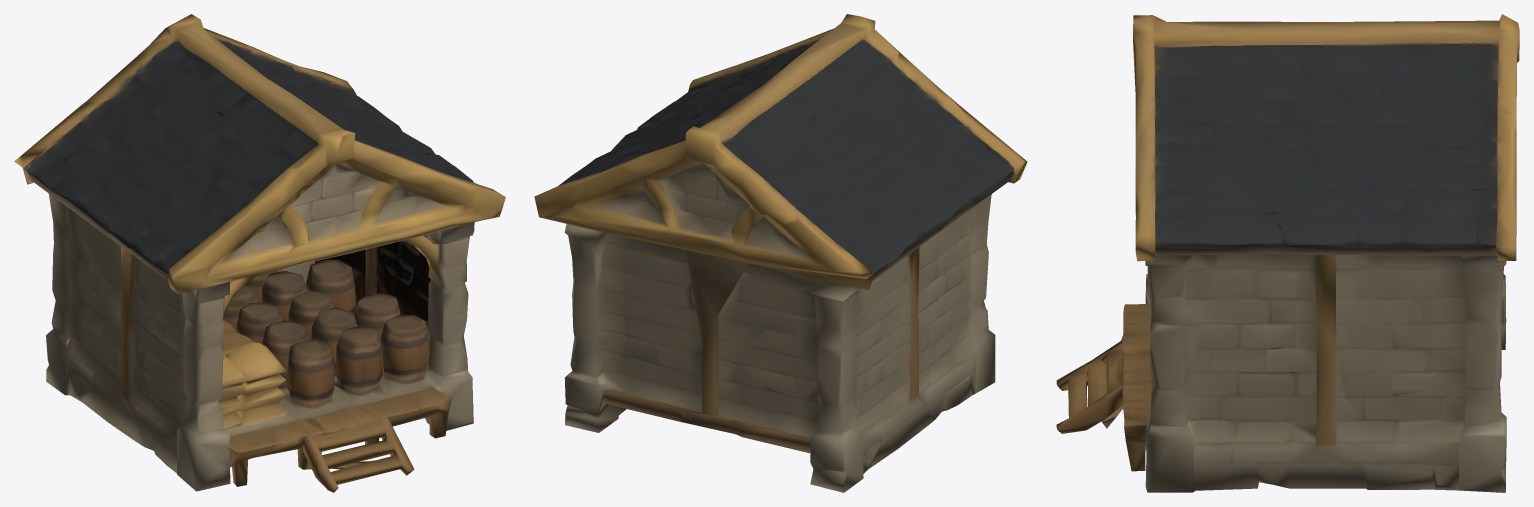
Rendered from source.glb.
3 renders of one model, left to right at view 1: azimuth 30°, elevation 25°; view 2: azimuth 150°, elevation 25°; view 3: azimuth 270°, elevation 25°, orthographic. The views are drawn at different scales.
Visible parts, largest first — view 1: tripo_node_efda932d-68d0-4e63-8a8c-3a186eead4b7; view 2: tripo_node_efda932d-68d0-4e63-8a8c-3a186eead4b7; view 3: tripo_node_efda932d-68d0-4e63-8a8c-3a186eead4b7.
Boxes of the visible parts, x1,y1,x2,y2 form: tripo_node_efda932d-68d0-4e63-8a8c-3a186eead4b7: [14, 14, 505, 492]; tripo_node_efda932d-68d0-4e63-8a8c-3a186eead4b7: [534, 14, 1027, 492]; tripo_node_efda932d-68d0-4e63-8a8c-3a186eead4b7: [1056, 14, 1519, 492].
Bounding box in the file's own units: 0.9885 × 0.9307 × 1.
1 material, 1 textured.
